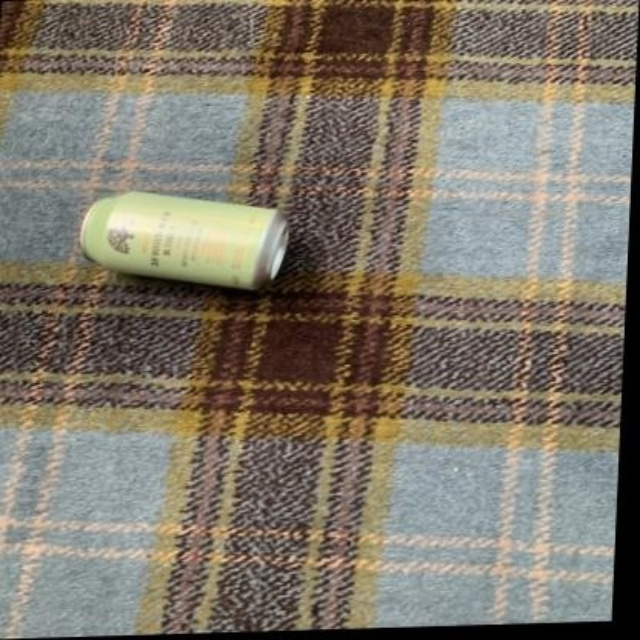trash: (80, 192, 286, 288)
